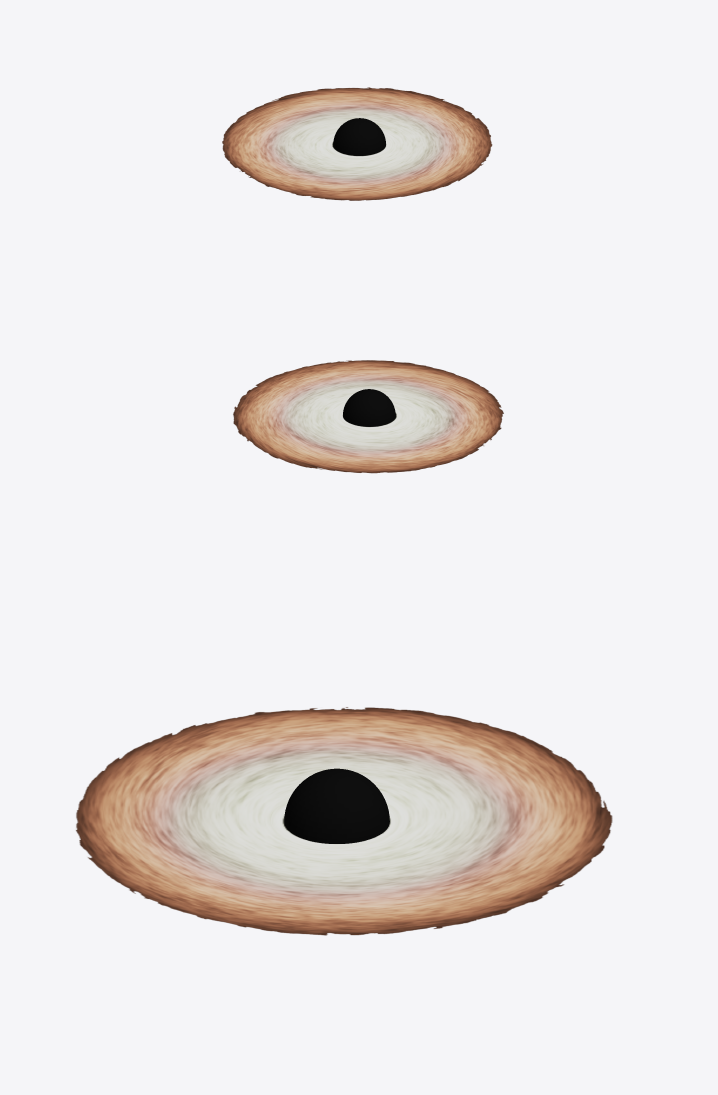
The model's file is black.gltf.
The picture shows the model from 3 angles, top to bottom: view 1: azimuth 30°, elevation 25°; view 2: azimuth 150°, elevation 25°; view 3: azimuth 270°, elevation 25°; orthographic projection. The views are drawn at different scales.
Parts seen in each view (by area): view 1: upper, Sphere; view 2: upper, Sphere; view 3: upper, Sphere.
Boxes of the visible parts, x1,y1,x2,y2 form: upper: (222, 87, 492, 200); Sphere: (333, 118, 385, 155); upper: (233, 360, 503, 473); Sphere: (343, 389, 395, 426); upper: (75, 707, 612, 935); Sphere: (284, 768, 389, 843).
Bounding box in the file's own units: 3.26 × 0.2891 × 1.83.
Materials: 2 (1 with a texture image).
